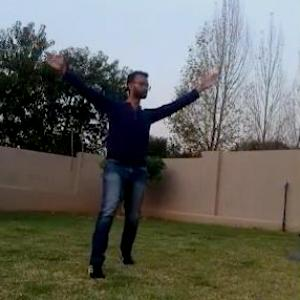takeoff: (46, 44, 220, 277)
